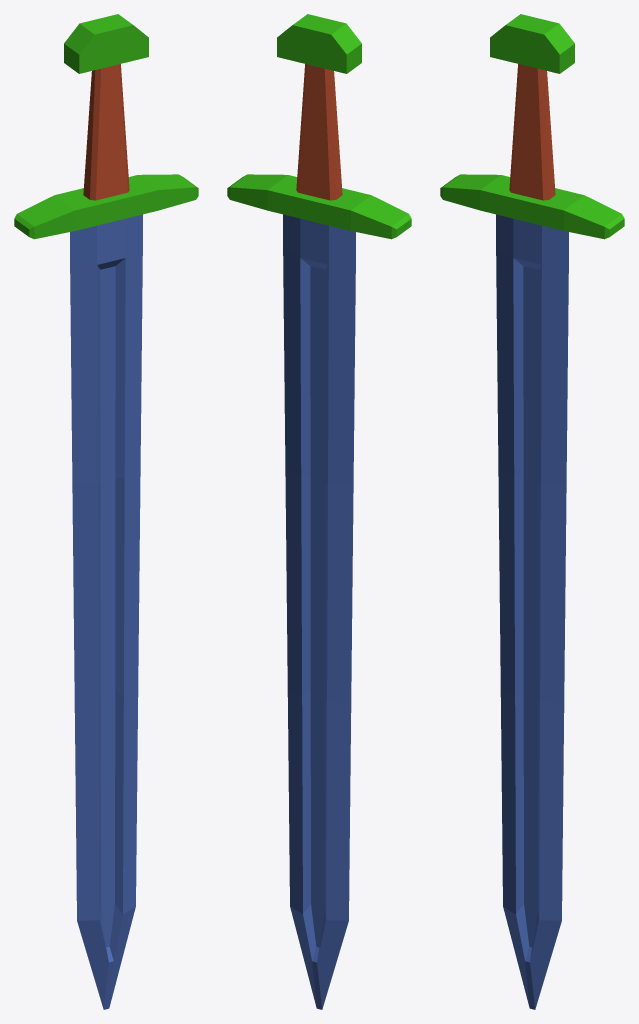
The model's file is Espada_low.fbx.
3 views of the same model, side by side, from view 1: azimuth 30°, elevation 25°; view 2: azimuth 150°, elevation 25°; view 3: azimuth 330°, elevation 25° (orthographic).
Parts seen in each view (by area): view 1: SM_Espada_low; view 2: SM_Espada_low; view 3: SM_Espada_low.
Part boxes in pixels (x1,y1,x2,y2): SM_Espada_low: [14, 14, 198, 1009]; SM_Espada_low: [227, 14, 411, 1009]; SM_Espada_low: [440, 14, 624, 1009].
Size of the model in its own units: 21.79 by 121 by 4.64.
